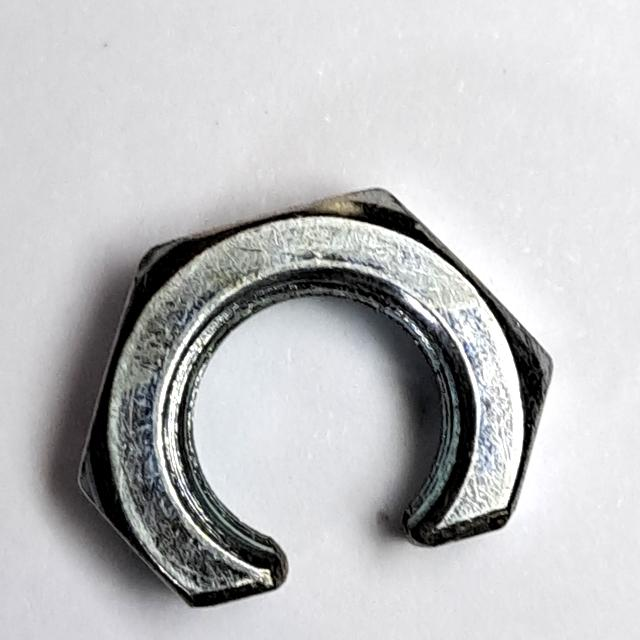Fracture: (59, 177, 566, 621)
